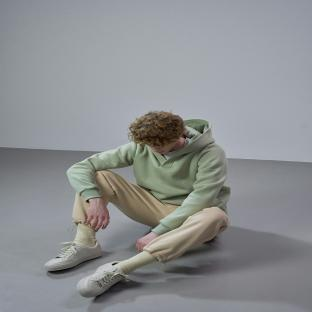Human: (44, 111, 230, 298)
